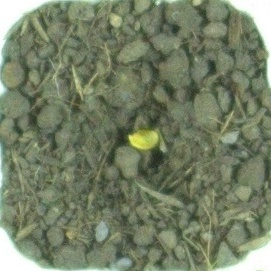chilli seed: (126, 127, 162, 151)
